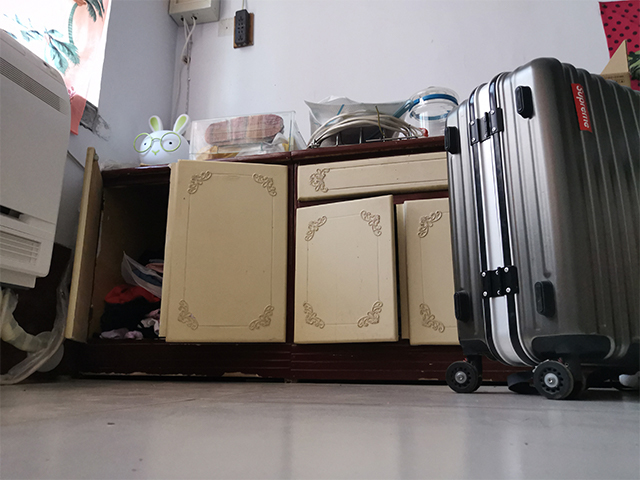cabinet: (51, 134, 459, 387)
